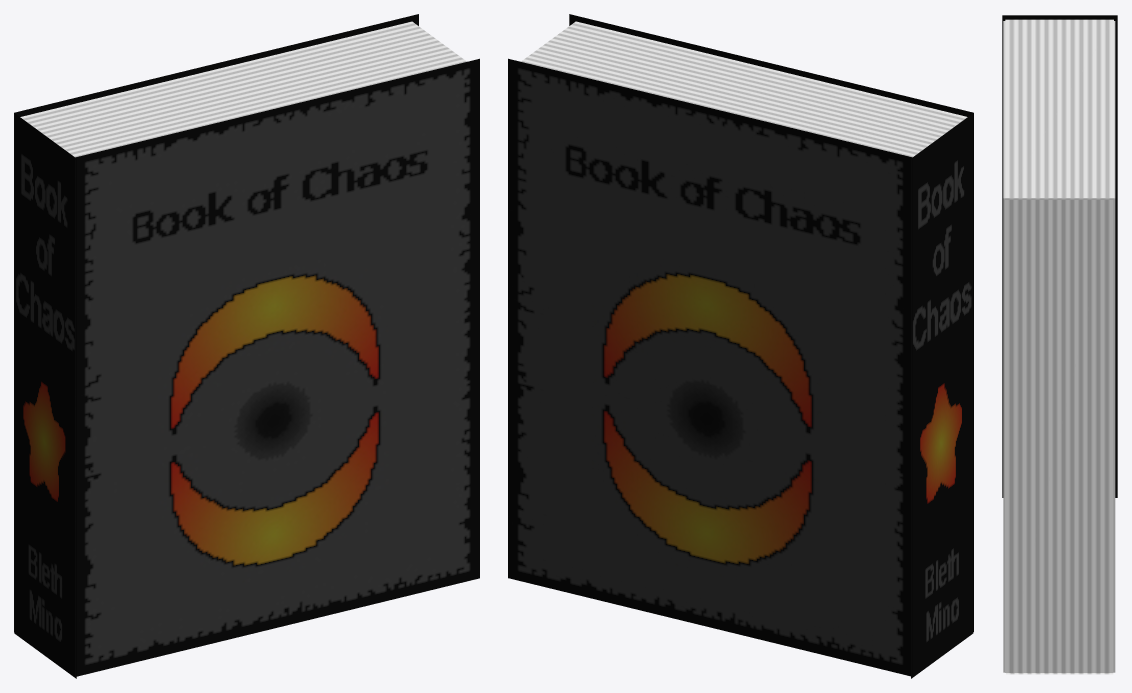
File: BookOfChaos.fbx
The picture shows the model from 3 angles, left to right: view 1: azimuth 30°, elevation 25°; view 2: azimuth 150°, elevation 25°; view 3: azimuth 270°, elevation 25°; orthographic projection. The views are drawn at different scales.
Parts seen in each view (by area): view 1: BookCover.001, Spine, pagebook.002, BookCover; view 2: BookCover, Spine, pagebook.002, BookCover.001; view 3: pagebook.001, pagebook.002, Cube, Spine, pagebook.
Part boxes in pixels (x1,y1,x2,y2): BookCover.001: [75, 58, 479, 676]; Spine: [14, 113, 76, 678]; pagebook.002: [20, 21, 466, 157]; BookCover: [14, 14, 418, 632]; BookCover: [508, 58, 912, 676]; Spine: [911, 113, 973, 678]; pagebook.002: [521, 21, 967, 157]; BookCover.001: [569, 14, 973, 631]; pagebook.001: [1005, 200, 1113, 672]; pagebook.002: [1005, 19, 1113, 197]; Cube: [1003, 21, 1115, 672]; Spine: [1002, 15, 1117, 497]; pagebook: [1006, 673, 1113, 674].
Bounding box in the file's own units: 130 × 160 × 34.7.
Materials: 4 (3 with a texture image).
